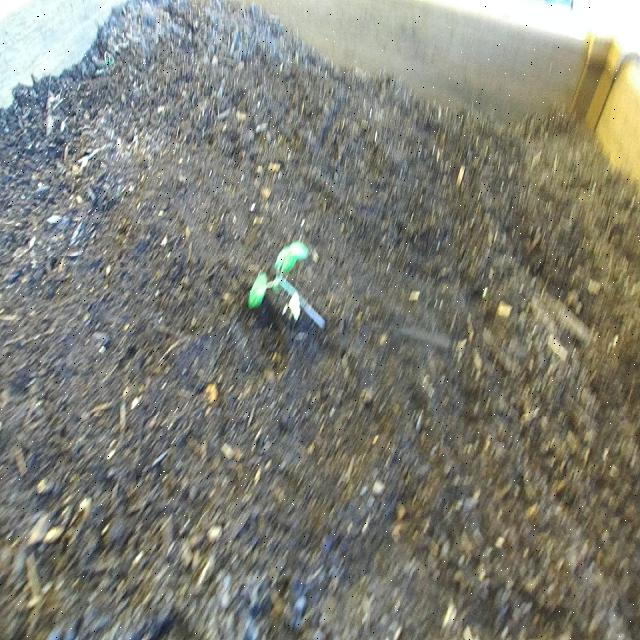Unhealthy: (243, 233, 334, 346)
